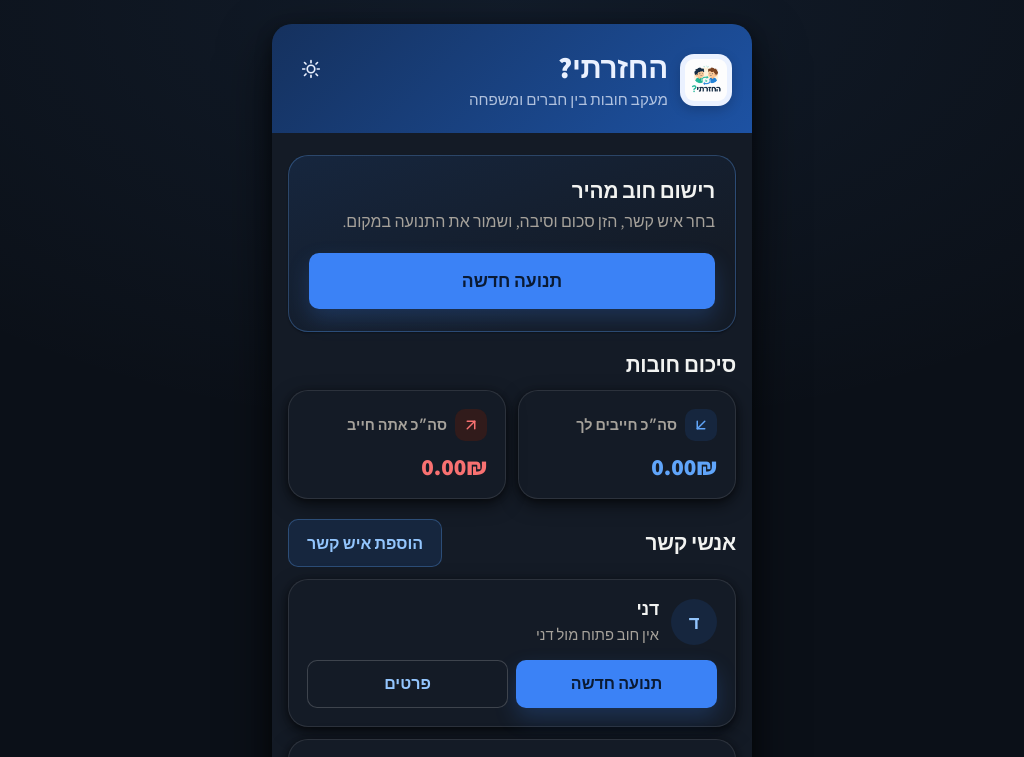
Test: App › Edit Member › rejects a name that duplicates another member's name
Step 1. Click the button "פרטים" → (408, 684), box 307,660 -> 508,708
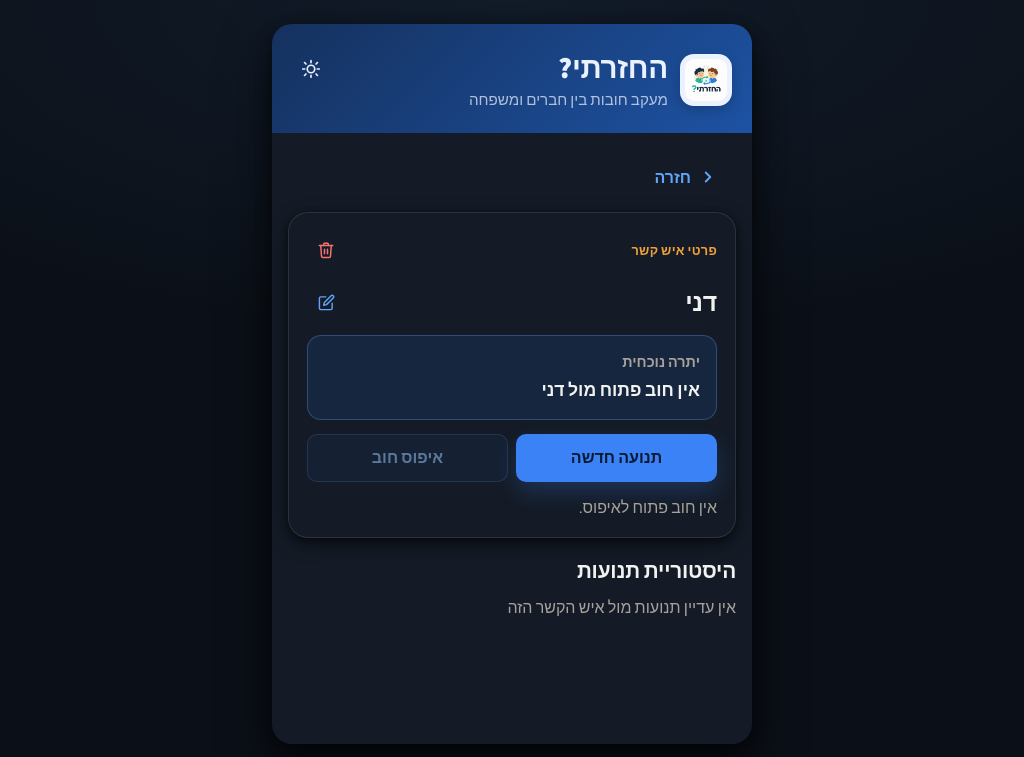
Step 2. Click the button named "שינוי שם" → (326, 302), box 307,283 -> 345,321
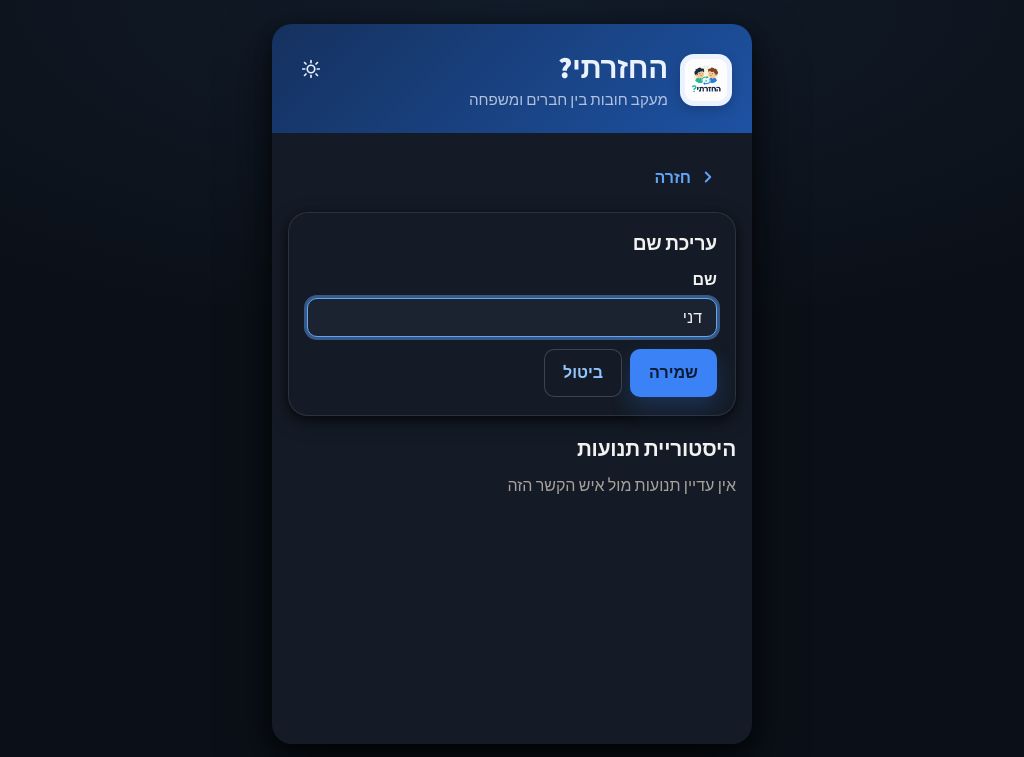
Step 3. Replace the text in the field labelled "שם" with "נועה" → (512, 317), box 307,298 -> 717,337
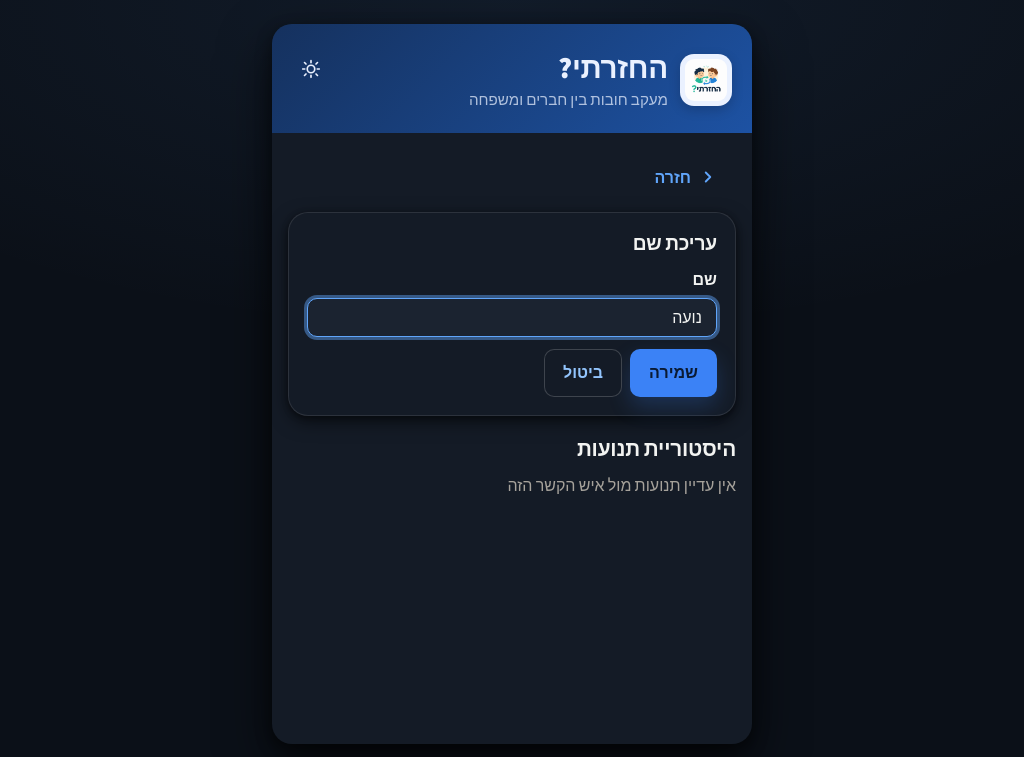
Step 4. Click the button "שמירה" → (674, 373), box 630,349 -> 717,397
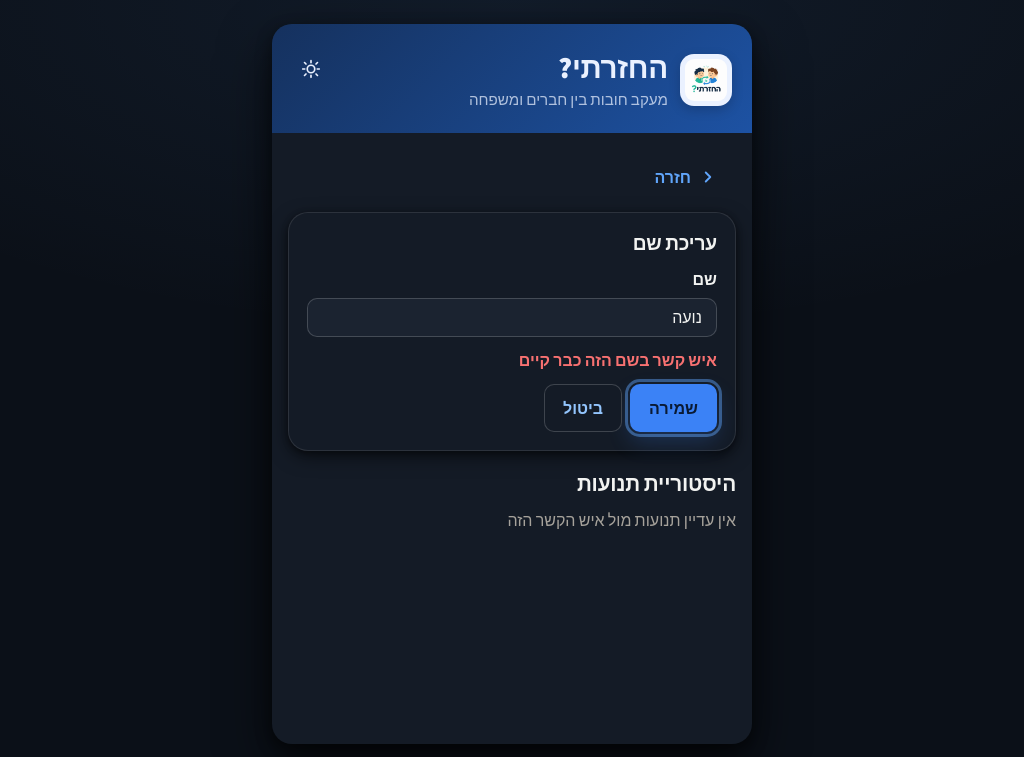
Result: the message reads "איש קשר בשם הזה כבר קיים" at 519,350 -> 717,371
